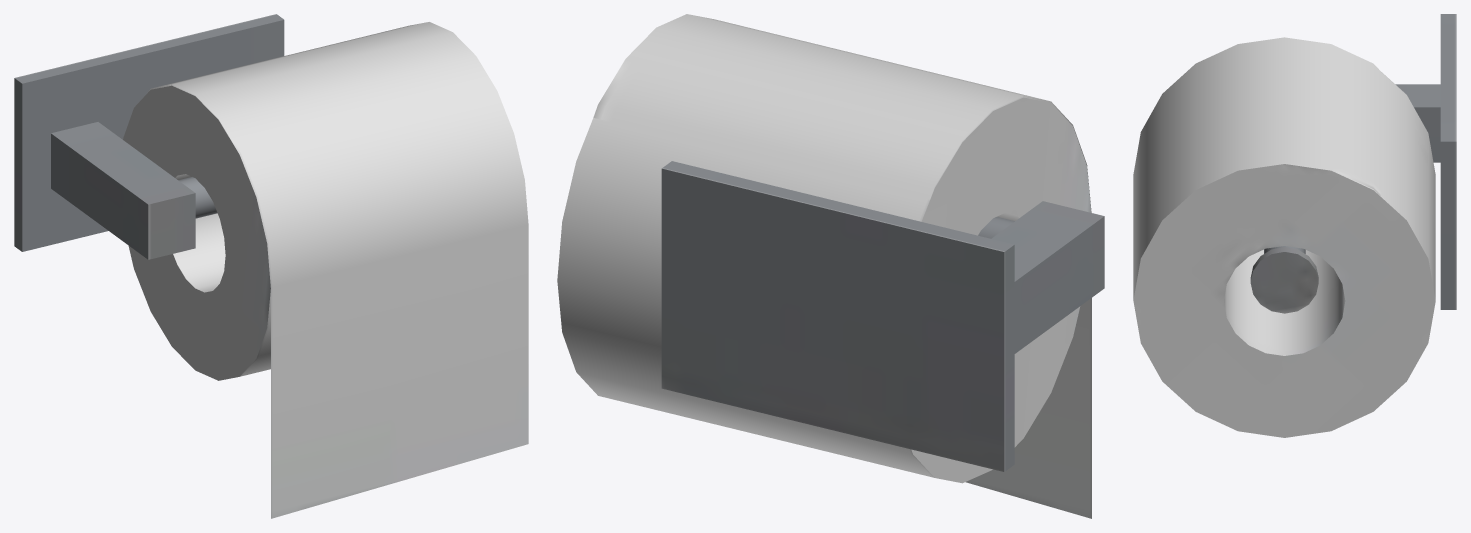
File: toilet-roll-holder.gltf
The picture shows the model from 3 angles, left to right: view 1: azimuth 30°, elevation 25°; view 2: azimuth 150°, elevation 25°; view 3: azimuth 270°, elevation 25°; orthographic projection. The views are drawn at different scales.
Visible parts, largest first — view 1: Toilet_Paper_Holder; view 2: Toilet_Paper_Holder; view 3: Toilet_Paper_Holder.
Boxes of the visible parts, x1,y1,x2,y2 form: Toilet_Paper_Holder: (14, 14, 528, 518); Toilet_Paper_Holder: (557, 14, 1104, 518); Toilet_Paper_Holder: (1133, 14, 1456, 437).
Size of the model in its own units: 0.1903 by 0.1726 by 0.1373.
1 material, 1 textured.
